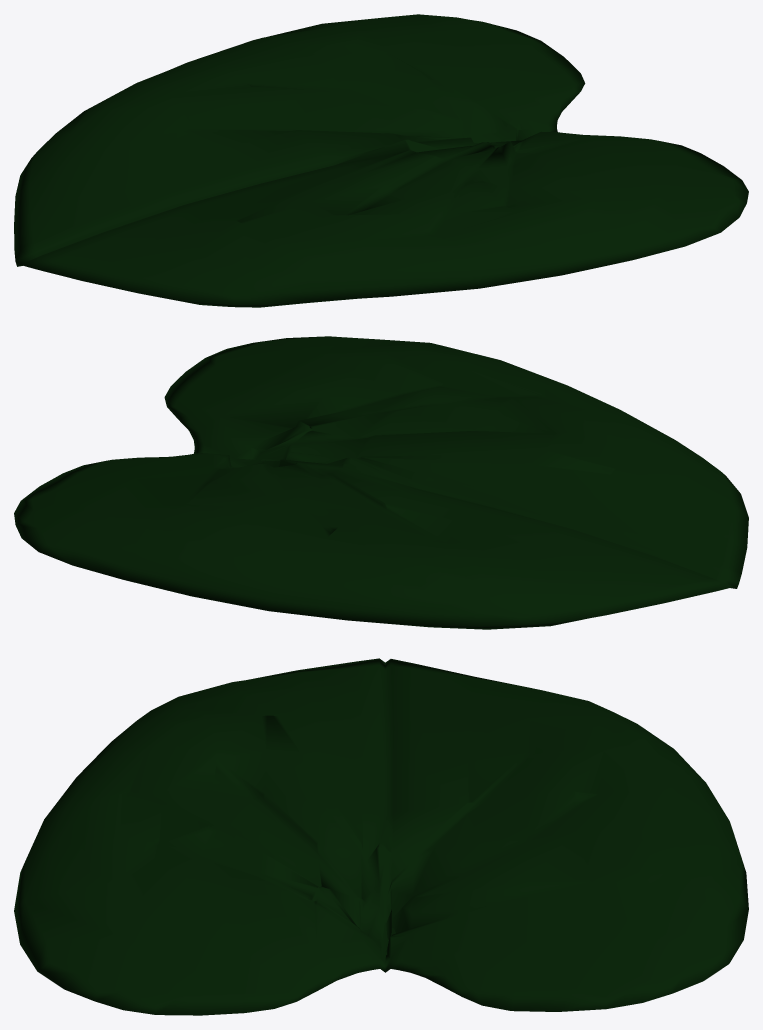
File: Lilia.FBX
The picture shows the model from 3 angles, top to bottom: view 1: azimuth 30°, elevation 25°; view 2: azimuth 150°, elevation 25°; view 3: azimuth 270°, elevation 25°; orthographic projection. The views are drawn at different scales.
Visible parts, largest first — view 1: Box001; view 2: Box001; view 3: Box001.
Part boxes in pixels (<box>): Box001: <box>14,14,748,307</box>; Box001: <box>14,336,748,629</box>; Box001: <box>14,658,748,1015</box>.
Bounding box in the file's own units: 65.99 × 5.73 × 57.09.
